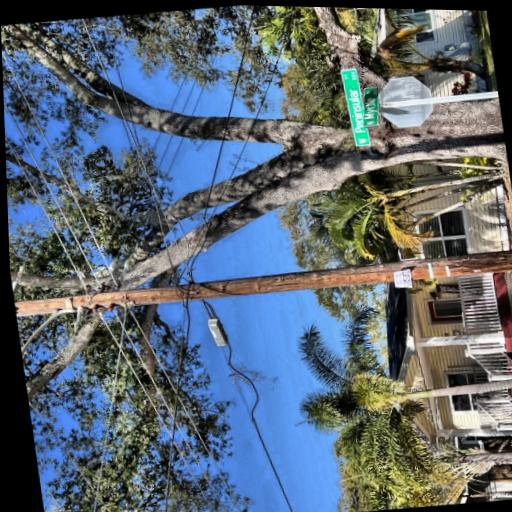pole: (74, 17, 174, 512)
street light: (15, 93, 118, 207)
